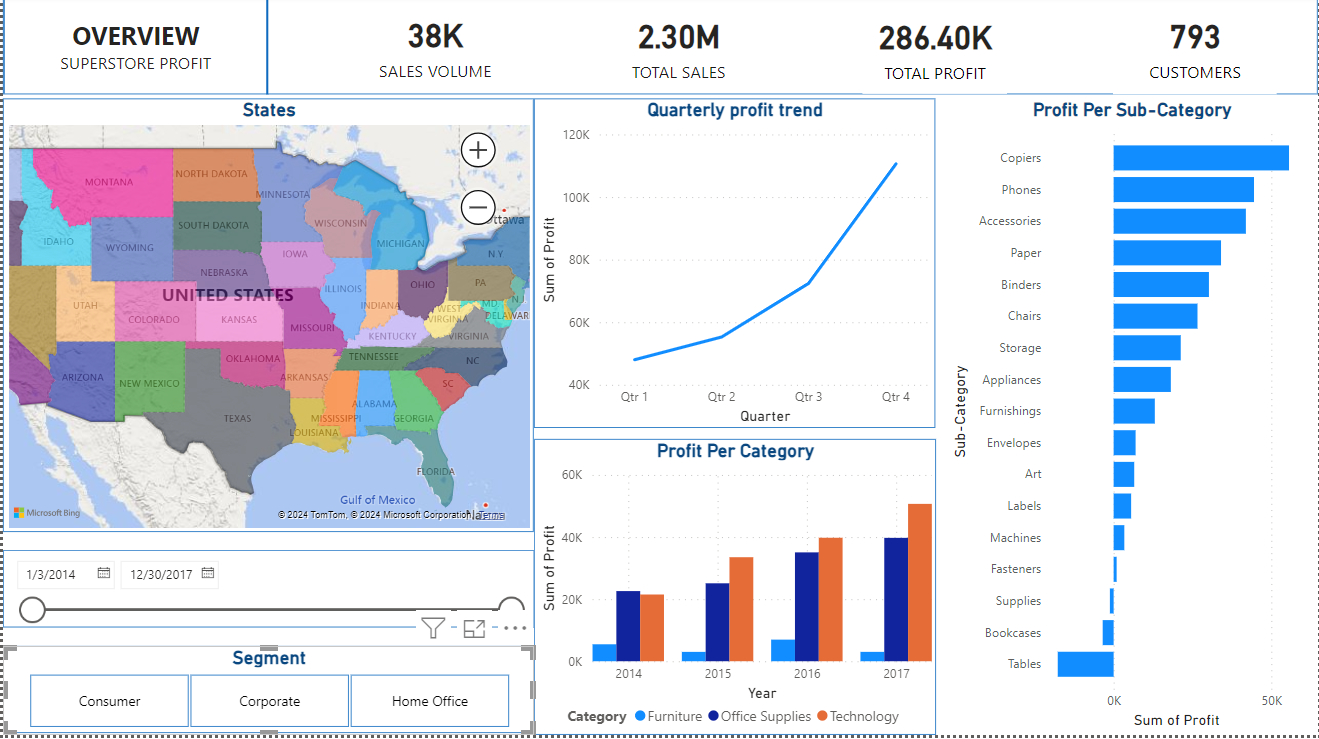

What the dashboard file says about the page in this screenshot:
{"tool":"powerbi","page":{"name":"PROFIT 1.0","canvas":[1280,720],"ordinal":0},"visuals":[{"type":"textbox","box":[0,18.2,258.7,77.2],"z":0},{"type":"card","fields":{"Values":["Sum(Sample - Superstore -.Sales)"]},"box":[585.7,0,144,96.6],"z":1000},{"type":"shape","box":[0,0,1280,96.8],"z":2000},{"type":"shape","box":[145.2,1.5,225.4,95.3],"z":3000},{"type":"filledMap","title":"States","fields":{"Category":["Sample - Superstore -.State"],"Series":["Sample - Superstore -.State"]},"box":[0,100.8,517,422.1],"z":4000},{"type":"card","fields":{"Values":["Sum(Sample - Superstore -.Quantity)"]},"box":[357.1,0,128.6,95.3],"z":5000},{"type":"clusteredColumnChart","title":"Profit Per Category","fields":{"Category":["Sample - Superstore -.Order Date.Variation.Date Hierarchy.Year","Sample - Superstore -.Order Date.Variation.Date Hierarchy.Quarter","Sample - Superstore -.Order Date.Variation.Date Hierarchy.Month","Sample - Superstore -.Order Date.Variation.Date Hierarchy.Day"],"Series":["Sample - Superstore -.Category"],"Y":["Sum(Sample - Superstore -.Profit)"]},"box":[517,432.3,391.4,287.7],"z":6000},{"type":"slicer","title":"Segment","fields":{"Values":["Sample - Superstore -.Segment"]},"box":[0,634.3,517.3,85],"z":7000},{"type":"card","fields":{"Values":["Count(Sample - Superstore -.Customer ID)"]},"box":[1080,0,159.3,96.5],"z":8000},{"type":"card","fields":{"Values":["Sum(Sample - Superstore -.Profit)"]},"box":[837.3,3.2,140.9,93.4],"z":9000},{"type":"slicer","fields":{"Values":["Sample - Superstore -.Order Date"]},"box":[0,539.9,517.3,75.5],"z":10000},{"type":"clusteredBarChart","title":"Profit Per Sub-Category","fields":{"Y":["Sum(Sample - Superstore -.Profit)"],"Category":["Sample - Superstore -.Sub-Category"]},"box":[918.4,101.4,361.6,617.3],"z":11000},{"type":"lineChart","title":"Quarterly profit trend","fields":{"Category":["Sample - Superstore -.Order Date.Variation.Date Hierarchy.Quarter"],"Y":["Sum(Sample - Superstore -.Profit)"]},"box":[517.4,101.4,390.4,320.8],"z":12000}]}

Visuals, with their boxes in screenshot pixels (x1, y1, x2, y2), scaled from the page's 1280x720 canvas onto the 1319x739 screenshot:
textbox: (0,19,267,98)
card - Sum(Sample - Superstore -.Sales): (604,0,752,99)
shape: (0,0,1318,99)
shape: (150,2,382,99)
"States" filledMap: (0,103,533,537)
card - Sum(Sample - Superstore -.Quantity): (368,0,500,98)
"Profit Per Category" clusteredColumnChart: (533,444,936,738)
"Segment" slicer: (0,651,533,738)
card - Count(Sample - Superstore -.Customer ID): (1113,0,1277,99)
card - Sum(Sample - Superstore -.Profit): (863,3,1008,99)
slicer - Sample - Superstore -.Order Date: (0,554,533,632)
"Profit Per Sub-Category" clusteredBarChart: (946,104,1318,738)
"Quarterly profit trend" lineChart: (533,104,935,433)
